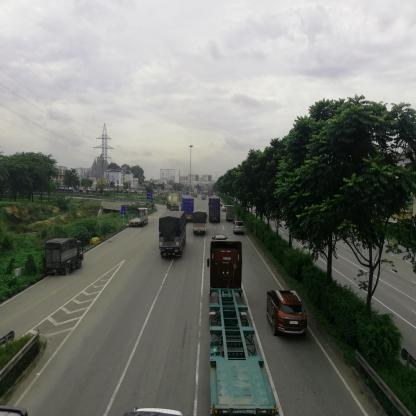car: (268, 292, 308, 338), (234, 222, 245, 235)
container: (211, 242, 249, 388), (210, 200, 222, 223), (186, 195, 195, 214)
truck: (48, 239, 85, 277), (160, 212, 187, 260), (130, 208, 149, 229), (193, 212, 208, 236), (168, 196, 180, 208), (228, 205, 236, 222)
